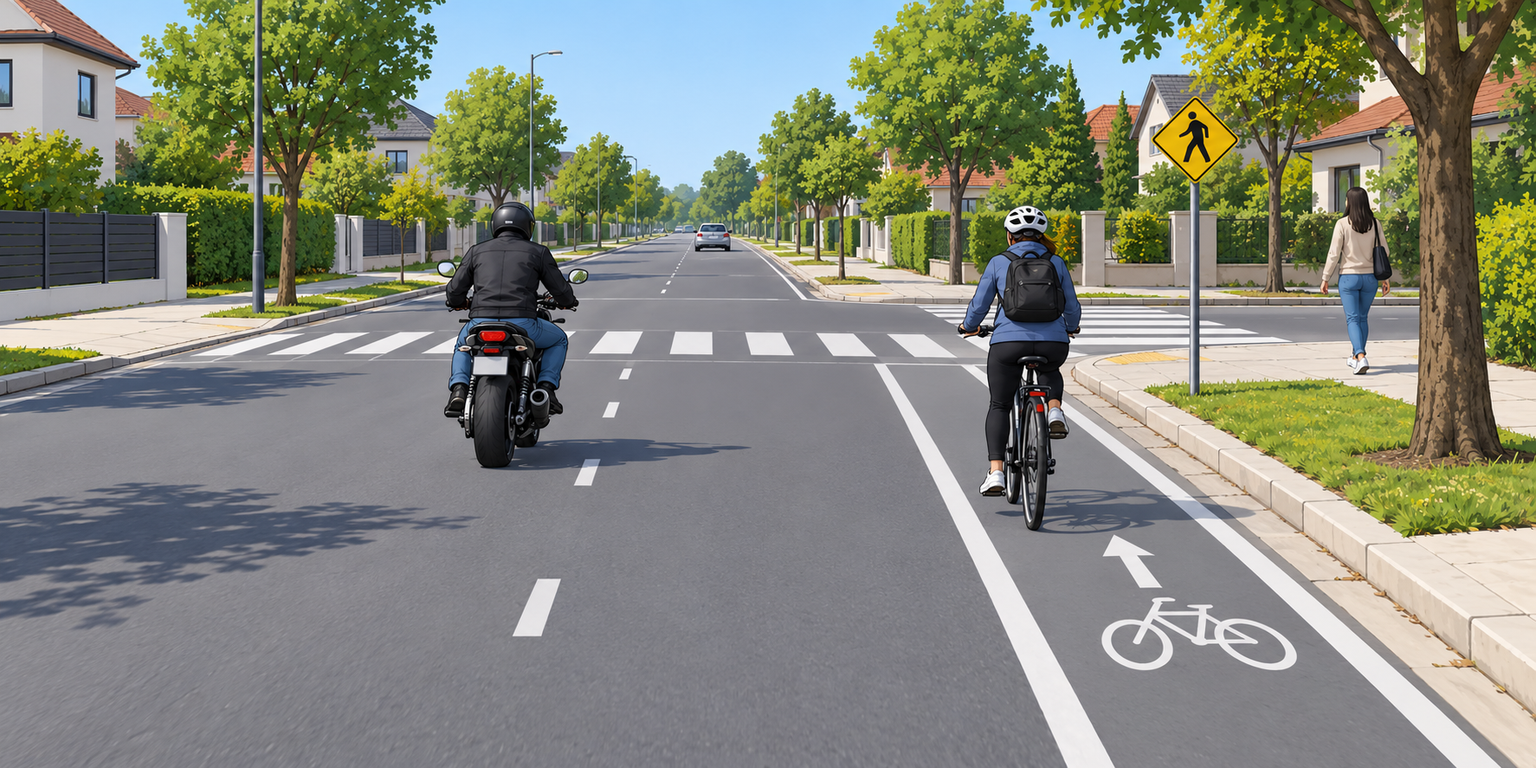bicycle: (965, 348, 1057, 532)
car: (688, 223, 733, 256)
crossing_warning_sign: (1152, 96, 1242, 190)
motorcycle: (447, 340, 584, 470)
person: (461, 206, 573, 414), (971, 209, 1058, 403), (1302, 190, 1366, 378)
zebra_crossing: (210, 313, 1094, 374)
